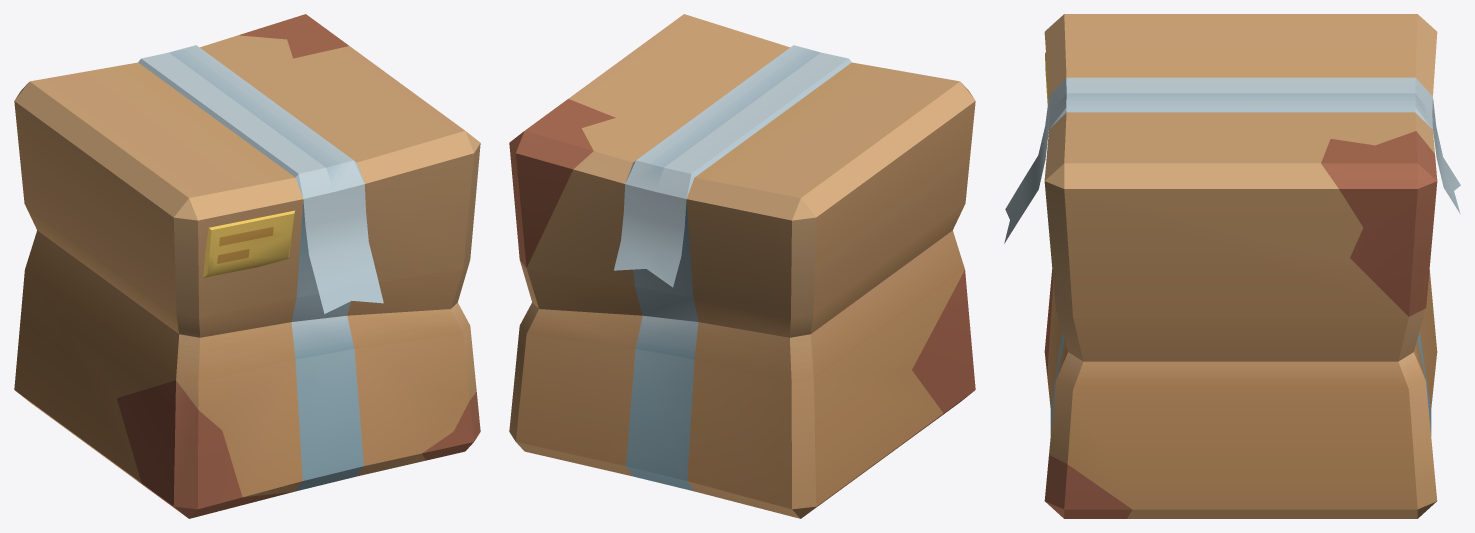
Rendered from containers_box_large_dirty.glb.
3 views of the same model, side by side, from view 1: azimuth 30°, elevation 25°; view 2: azimuth 150°, elevation 25°; view 3: azimuth 270°, elevation 25° (orthographic). The views are drawn at different scales.
Parts seen in each view (by area): view 1: Containers_Box_Large_Dirty; view 2: Containers_Box_Large_Dirty; view 3: Containers_Box_Large_Dirty.
Boxes of the visible parts, left/top/right/bottom form: Containers_Box_Large_Dirty: left=14, top=14, right=480, bottom=518; Containers_Box_Large_Dirty: left=509, top=14, right=975, bottom=518; Containers_Box_Large_Dirty: left=1004, top=14, right=1460, bottom=518.
Size of the model in its own units: 0.75 by 0.7493 by 0.8726.
1 material, 1 textured.
